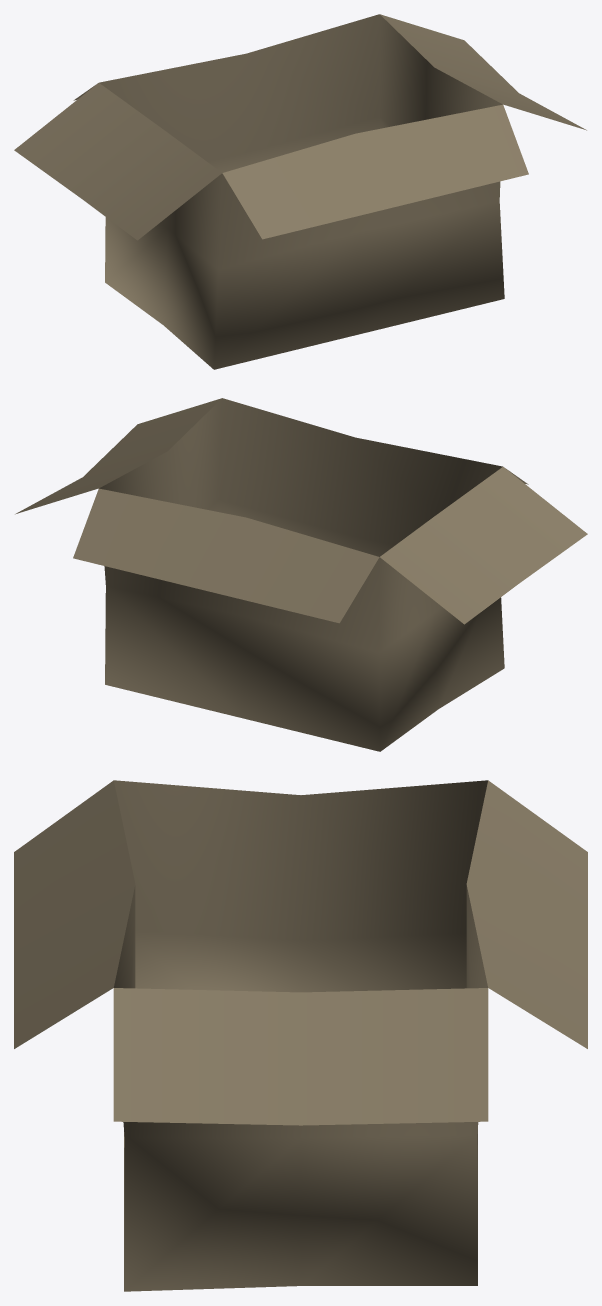
File: Carboard_Box.fbx
3 views of the same model, one above another, from view 1: azimuth 30°, elevation 25°; view 2: azimuth 150°, elevation 25°; view 3: azimuth 270°, elevation 25° (orthographic). The views are drawn at different scales.
Visible parts, largest first — view 1: cardboard_box; view 2: cardboard_box; view 3: cardboard_box.
Part boxes in pixels (left/top/right/bottom): cardboard_box: left=14, top=14, right=586, bottom=369; cardboard_box: left=15, top=398, right=587, bottom=751; cardboard_box: left=14, top=780, right=587, bottom=1291.
Bounding box in the file's own units: 1.1 × 0.4603 × 0.7978.
